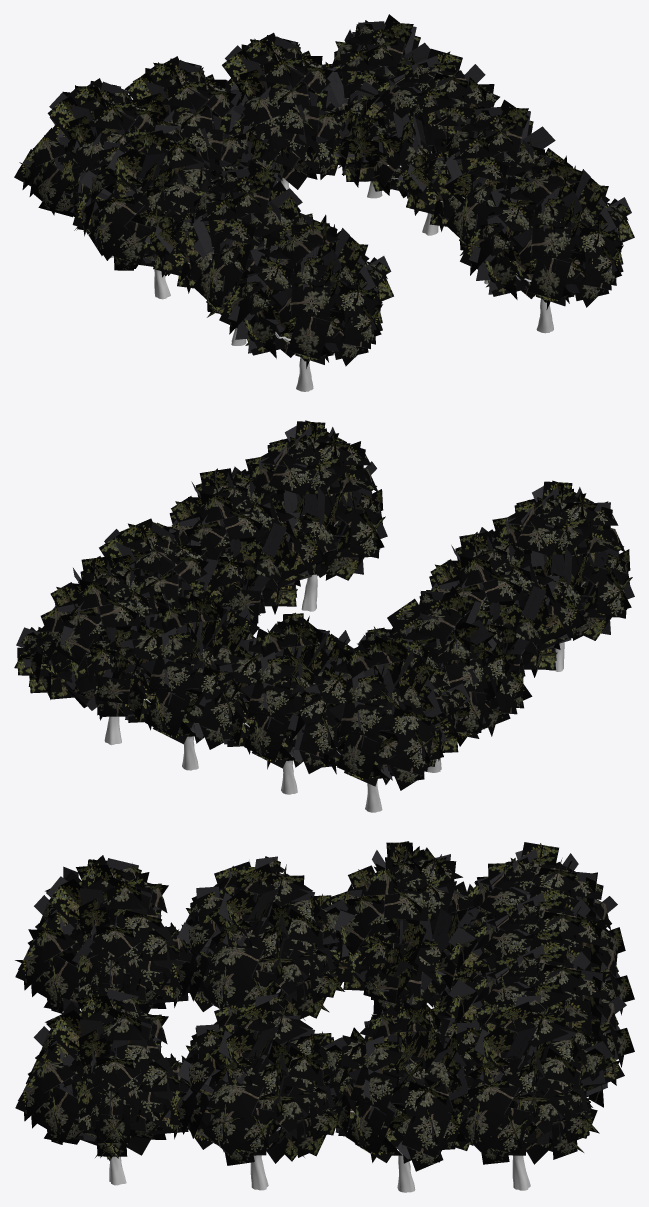
The model's file is Arboles.fbx.
3 views of the same model, one above another, from view 1: azimuth 30°, elevation 25°; view 2: azimuth 150°, elevation 25°; view 3: azimuth 270°, elevation 25° (orthographic). The views are drawn at different scales.
Visible parts, largest first — view 1: Hojas.006, Hojas.002, Hojas.008, Hojas.001, Hojas.003, Hojas.009, Hojas.007, Hojas.005, Hojas.004, Hojas.010; view 2: Hojas.005, Hojas.010, Hojas.008, Hojas.007, Hojas.004, Hojas.002, Hojas.006, Hojas.001, Hojas.003, Hojas.009; view 3: Hojas.007, Hojas.002, Hojas.001, Hojas.010, Hojas.006, Hojas.009, Hojas.003, Hojas.008, Hojas.004, Hojas.005, Arbol.010, Arbol.007 (+1 smaller).
Part boxes in pixels (x1,y1,x2,y2): Hojas.006: (219, 213, 393, 368); Hojas.002: (460, 154, 634, 309); Hojas.008: (222, 32, 364, 189); Hojas.001: (141, 161, 302, 317); Hojas.003: (72, 123, 237, 276); Hojas.009: (331, 48, 499, 197); Hojas.007: (394, 99, 572, 255); Hojas.005: (14, 78, 159, 234); Hojas.004: (125, 56, 274, 174); Hojas.010: (323, 14, 430, 168); Hojas.005: (288, 629, 470, 790); Hojas.010: (14, 556, 171, 720); Hojas.008: (95, 588, 259, 749); Hojas.007: (168, 468, 327, 625); Hojas.004: (194, 612, 355, 773); Hojas.002: (232, 420, 387, 580); Hojas.006: (479, 480, 634, 640); Hojas.001: (426, 531, 586, 677); Hojas.003: (354, 586, 532, 746); Hojas.009: (78, 518, 237, 612); Hojas.007: (169, 994, 347, 1165); Hojas.002: (15, 986, 210, 1160); Hojas.001: (169, 856, 348, 1020); Hojas.010: (440, 995, 624, 1164); Hojas.006: (15, 855, 218, 1013); Hojas.009: (322, 993, 478, 1171); Hojas.003: (323, 841, 493, 1014); Hojas.008: (447, 937, 634, 1097); Hojas.004: (433, 885, 634, 1023); Hojas.005: (429, 842, 625, 994); Arbol.010: (512, 1091, 530, 1190); Arbol.007: (250, 1127, 282, 1190).
Size of the model in its own units: 4399 by 1711 by 4932.
